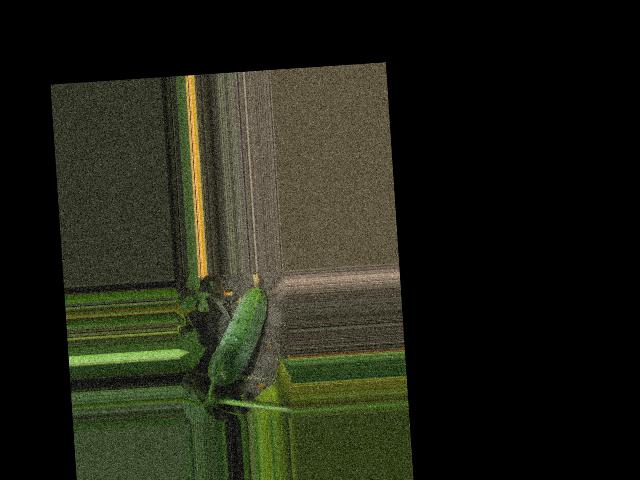cucumber: (201, 272, 273, 386)
